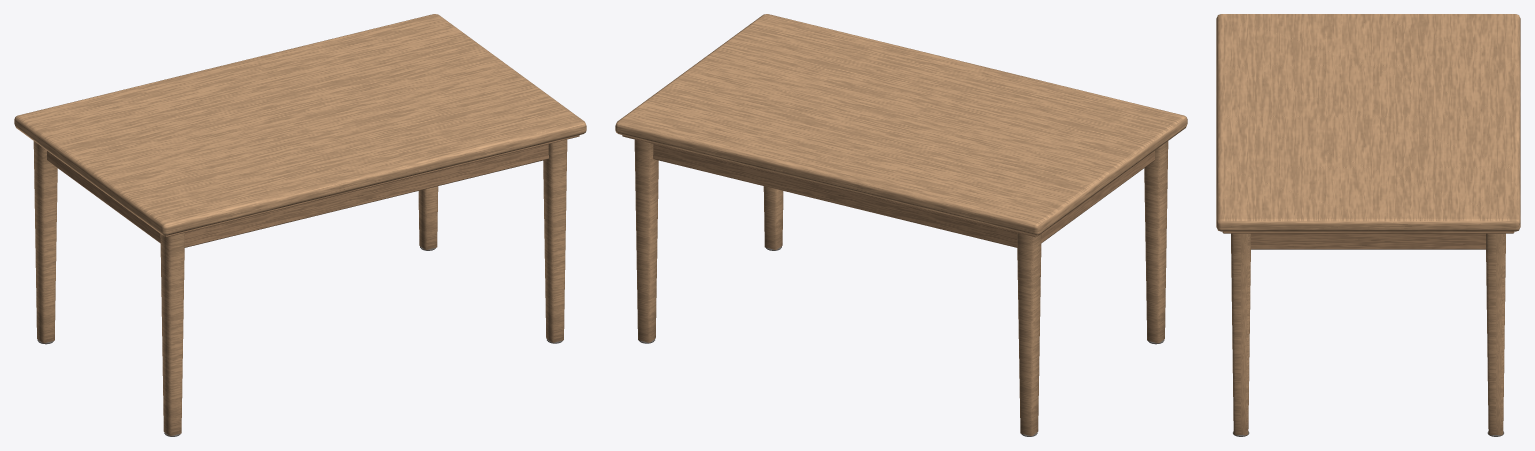
Rendered from int_mesa_jantar.glb.
3 views of the same model, side by side, from view 1: azimuth 30°, elevation 25°; view 2: azimuth 150°, elevation 25°; view 3: azimuth 270°, elevation 25° (orthographic).
Parts seen in each view (by area): view 1: mesa; view 2: mesa; view 3: mesa.
Boxes of the visible parts, bbox=[...] form: mesa: bbox=[14, 14, 586, 436]; mesa: bbox=[615, 14, 1187, 436]; mesa: bbox=[1216, 14, 1520, 436].
Size of the model in its own units: 1.2 by 0.6 by 0.74.
Materials: 2 (2 with a texture image).
